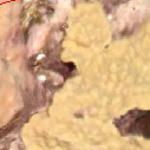alive: (25, 20, 138, 135)
